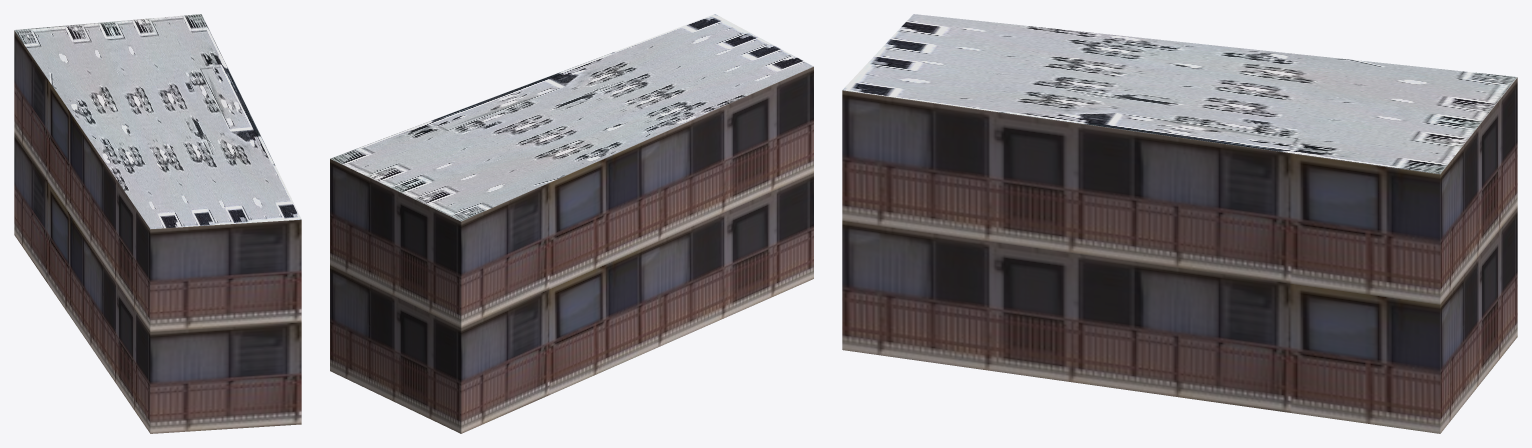
File: ResTex__399.fbx
3 views of the same model, side by side, from view 1: azimuth 30°, elevation 25°; view 2: azimuth 150°, elevation 25°; view 3: azimuth 270°, elevation 25° (orthographic). The views are drawn at different scales.
Parts seen in each view (by area): view 1: CityEngineMaterial_6_m, CityEngineMaterial_8_m; view 2: CityEngineMaterial_6_m, CityEngineMaterial_8_m; view 3: CityEngineMaterial_6_m, CityEngineMaterial_8_m.
Part boxes in pixels (box(x1,y1,x2,y2)): CityEngineMaterial_6_m: box(14, 30, 301, 433); CityEngineMaterial_8_m: box(14, 14, 301, 229); CityEngineMaterial_6_m: box(330, 66, 813, 433); CityEngineMaterial_8_m: box(330, 14, 813, 221); CityEngineMaterial_6_m: box(842, 77, 1517, 433); CityEngineMaterial_8_m: box(842, 14, 1517, 173).
Size of the model in its own units: 7.94 by 6 by 14.14.
Materials: 2 (2 with a texture image).
